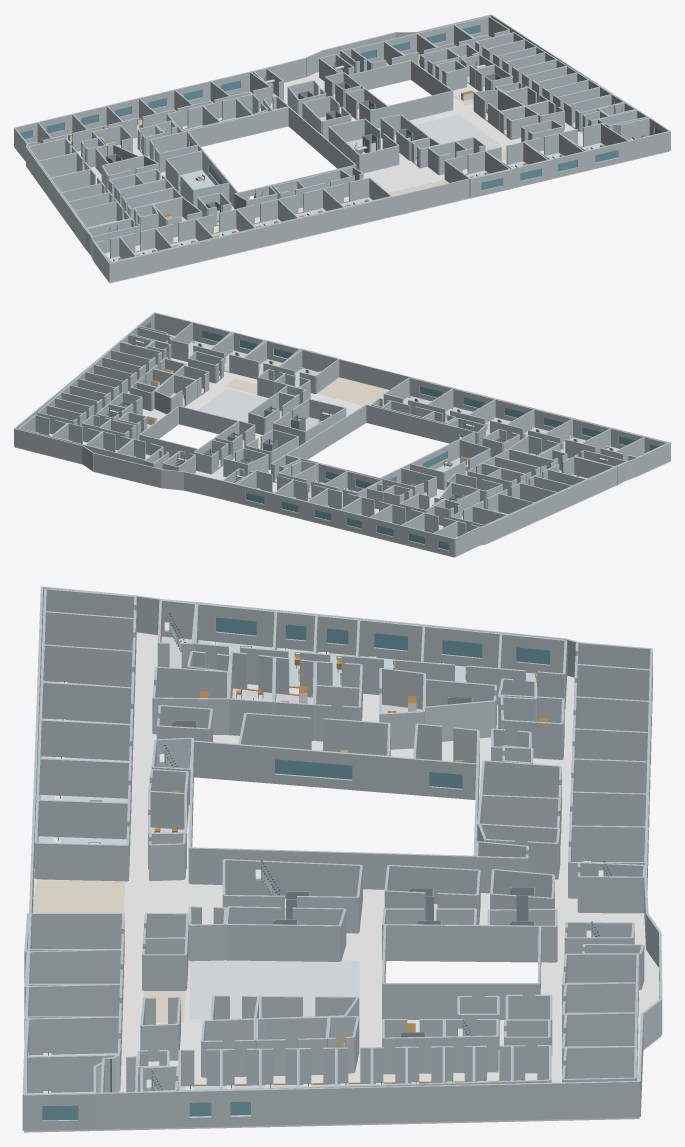
Rendered from hongkong-ward.glb.
3 renders of one model, top to bottom at view 1: azimuth 30°, elevation 25°; view 2: azimuth 150°, elevation 25°; view 3: azimuth 270°, elevation 25°, orthographic. The views are drawn at different scales.
Visible parts, largest first — view 1: wall-423 (×2), Floor slab, wall-430, 未标注白色区域：用途未确认, wall-427, wall-431, wall-436, wall-434, wall-304, wall-48, wall-435, wall-32 (+23 smaller); view 2: Floor slab, wall-427, wall-423, wall-432, wall-431, wall-421, wall-419, 未标注白色区域：用途未确认, 南侧跨区连接空间, wall-436, wall-417, wall-424 (+20 smaller); view 3: Floor slab, wall-422 (×2), wall-433 (×4), 未标注白色区域：用途未确认, wall-437, wall-431, wall-435, wall-305, wall-317, wall-81, wall-167, wall-175 (+68 smaller).
Part boxes in pixels (box(x1,y1,x2,y2)): wall-423 (×2): box(109, 131, 670, 282); Floor slab: box(17, 71, 670, 283); wall-430: box(187, 107, 288, 146); 未标注白色区域：用途未确认: box(415, 114, 503, 150); wall-427: box(26, 147, 86, 248); wall-431: box(288, 107, 356, 168); wall-436: box(388, 90, 452, 120); wall-434: box(348, 60, 410, 89); wall-304: box(359, 145, 398, 173); wall-48: box(74, 201, 116, 227); wall-435: box(411, 60, 453, 109); wall-32: box(39, 152, 76, 177); Floor slab: box(15, 358, 670, 557); wall-427: box(486, 466, 616, 543); wall-423: box(292, 347, 670, 442); wall-432: box(366, 404, 459, 443); wall-431: box(286, 404, 366, 459); wall-421: box(14, 428, 82, 463); wall-419: box(93, 453, 161, 487); 未标注白色区域：用途未确认: box(197, 388, 267, 422); 南侧跨区连接空间: box(317, 377, 388, 405); wall-436: box(179, 406, 238, 434); wall-417: box(184, 471, 220, 498); wall-424: box(637, 442, 670, 475); Floor slab: box(24, 632, 660, 1132); wall-422 (×2): box(78, 1080, 639, 1129); wall-433 (×4): box(194, 740, 429, 796); 未标注白色区域：用途未确认: box(190, 960, 359, 1019); wall-437: box(385, 924, 539, 962); wall-431: box(190, 847, 474, 889); wall-435: box(383, 983, 538, 1019); wall-305: box(224, 859, 361, 898); wall-317: box(226, 923, 339, 961); wall-81: box(36, 842, 127, 881); wall-167: box(28, 912, 123, 948); wall-175: box(25, 1016, 118, 1055).
Bounding box in the file's own units: 97.8 × 3.83 × 51.96.
